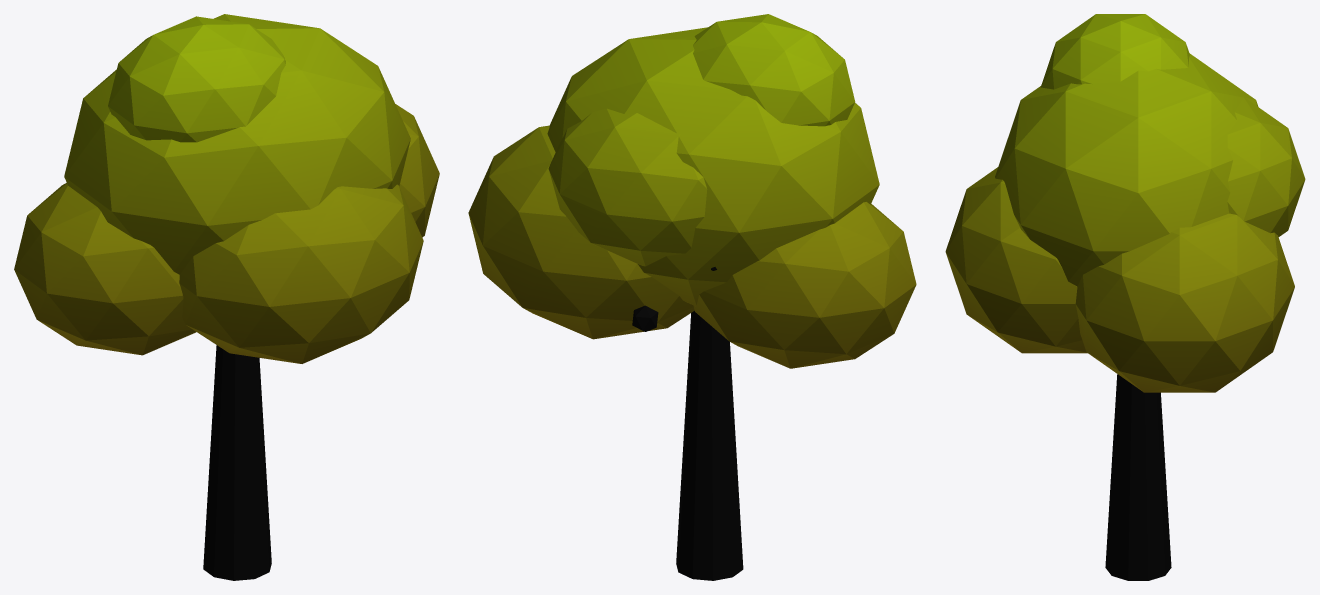
The model's file is tree_fruit.glb.
The picture shows the model from 3 angles, left to right: view 1: azimuth 30°, elevation 25°; view 2: azimuth 150°, elevation 25°; view 3: azimuth 270°, elevation 25°; orthographic projection. The views are drawn at different scales.
Visible parts, largest first — view 1: leaves_00, leaves_03, leaves_01, leaves_05, tree_trunk, leaves_02; view 2: leaves_00, leaves_01, leaves_02, leaves_04, tree_trunk, leaves_05; view 3: leaves_00, leaves_02, leaves_03, tree_trunk, leaves_04, leaves_05.
Part boxes in pixels (x1,y1,x2,y2): leaves_00: (64,14,410,274); leaves_03: (179,184,423,363); leaves_01: (14,182,196,355); leaves_05: (108,16,285,142); tree_trunk: (203,345,271,580); leaves_02: (395,104,439,237); leaves_00: (547,27,879,306); leaves_01: (693,202,916,368); leaves_02: (468,125,694,339); leaves_04: (548,108,707,266); tree_trunk: (676,311,743,580); leaves_05: (693,14,855,126); leaves_00: (995,53,1258,286); leaves_02: (1075,213,1294,392); leaves_03: (945,167,1087,353); tree_trunk: (1105,374,1171,580); leaves_04: (1227,96,1305,236); leaves_05: (1041,14,1189,89).
Bounding box in the file's own units: 3.74 × 4.92 × 3.05.
